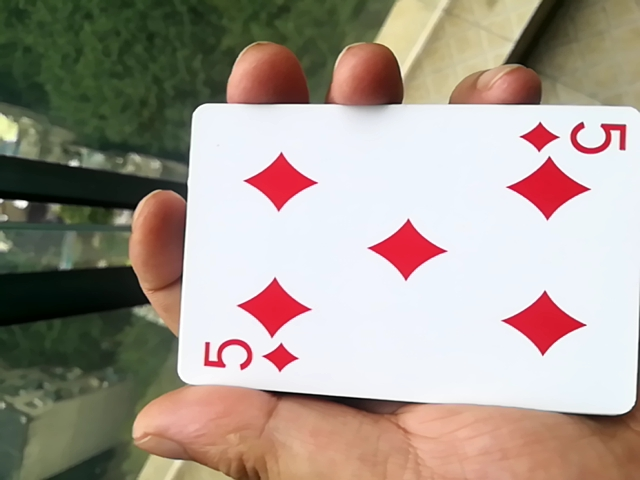fk 5: (155, 103, 635, 422)
